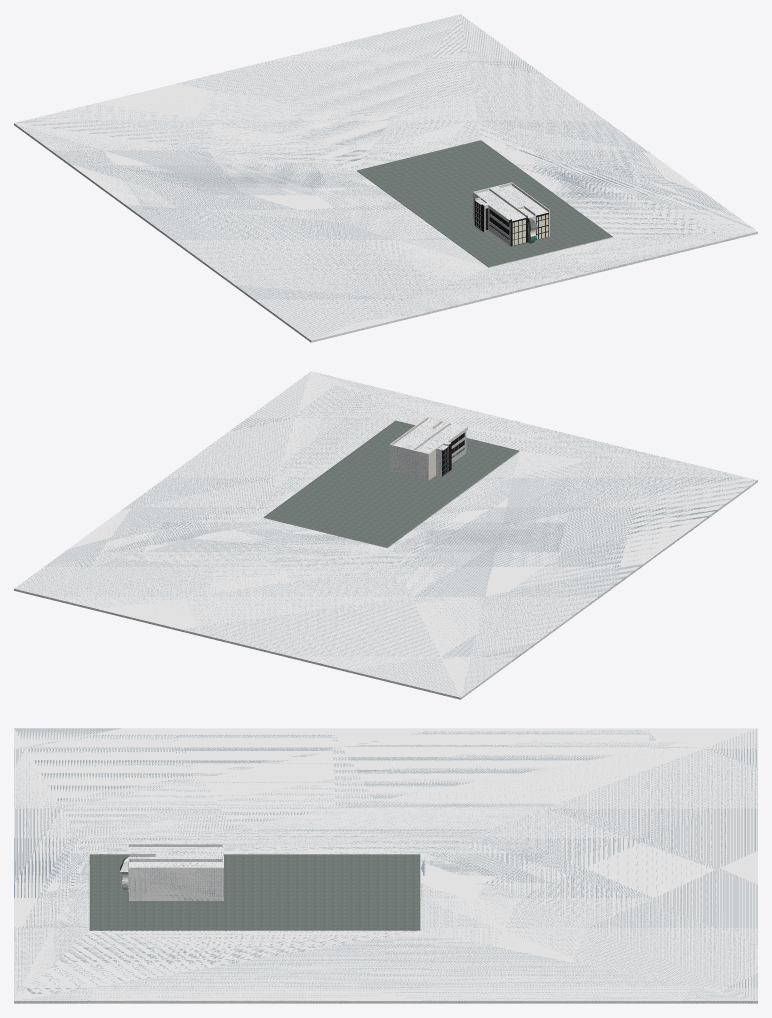
3 views of the same model, one above another, from view 1: azimuth 30°, elevation 25°; view 2: azimuth 150°, elevation 25°; view 3: azimuth 270°, elevation 25° (orthographic). The views are drawn at different scales.
Parts seen in each view (by area): view 1: SketchUp (×3); view 2: SketchUp (×3); view 3: SketchUp (×3).
Part boxes in pixels (x1=…): SketchUp (×3): x1=14, y1=14, x2=757, y2=342; SketchUp (×3): x1=14, y1=371, x2=757, y2=699; SketchUp (×3): x1=14, y1=728, x2=757, y2=1003.
Bounding box in the file's own units: 721 × 831 × 45.67.
Materials: 14 (2 with a texture image).
